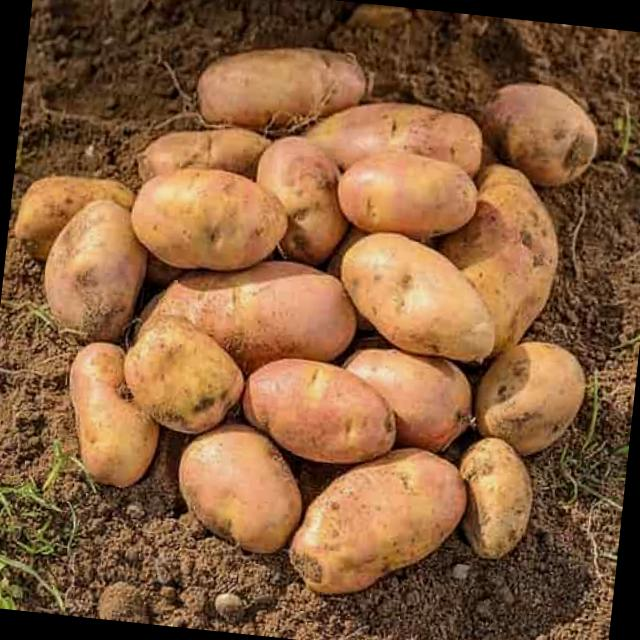potato: (328, 228, 506, 369), (237, 350, 403, 473), (167, 424, 310, 560), (186, 40, 375, 139), (130, 170, 286, 272), (112, 313, 246, 431), (35, 197, 144, 334), (328, 145, 484, 240), (454, 435, 542, 559)
